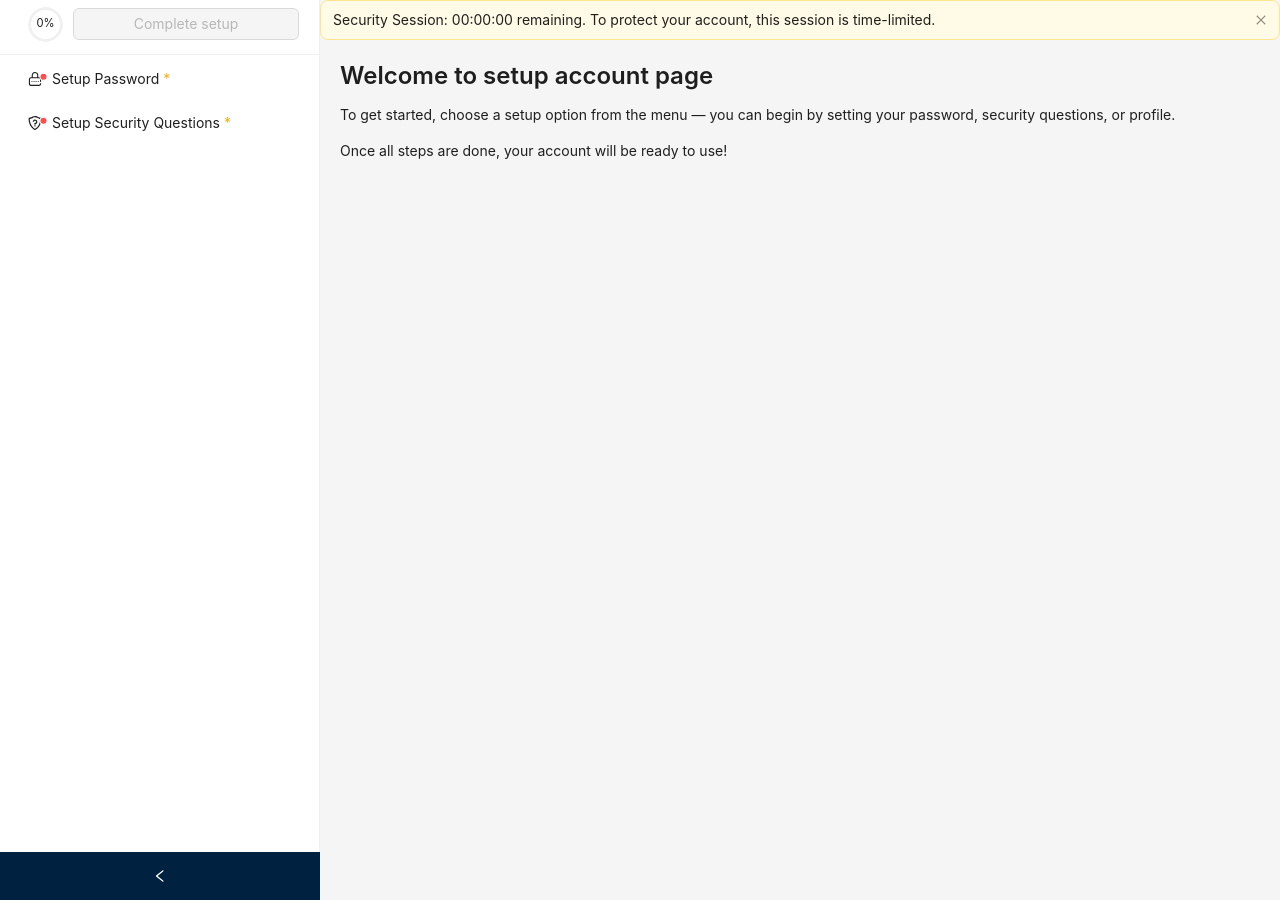
Test: SetupAccountPage - Security Question Answer setup flow › should render Setup security question answer form correctly
Click the menu item "Setup Security Questions *" at (129, 122), box [28,114,231,131]
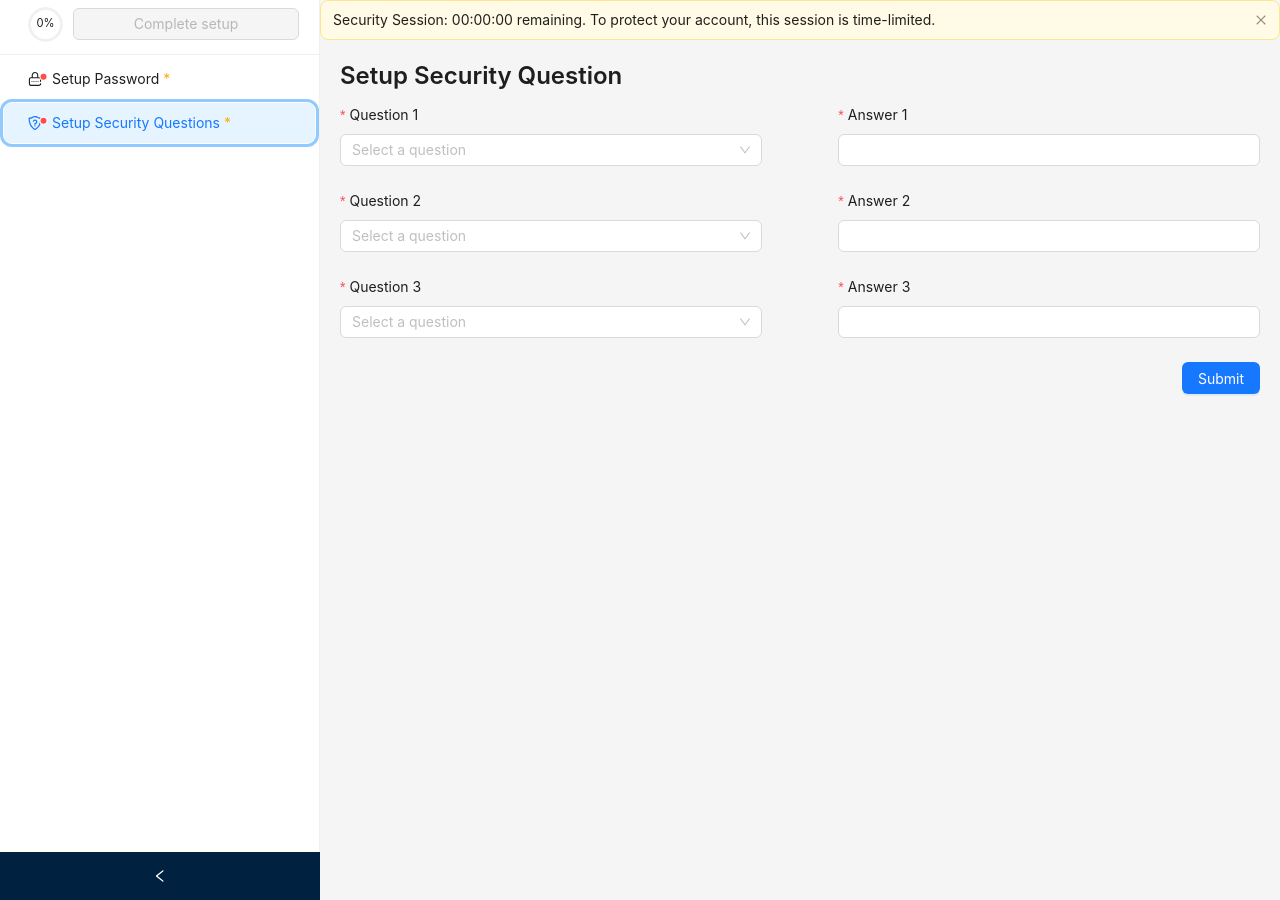
Expected: the number of fields is 3, [838,134,1260,166]; [838,220,1260,252]; [838,306,1260,338]
Expected: the text "Select a question" is shown 3 times, [352,141,466,158]; [352,227,466,244]; [352,313,466,330]
Expected: the button "Submit" is shown, [1182,362,1260,394]
